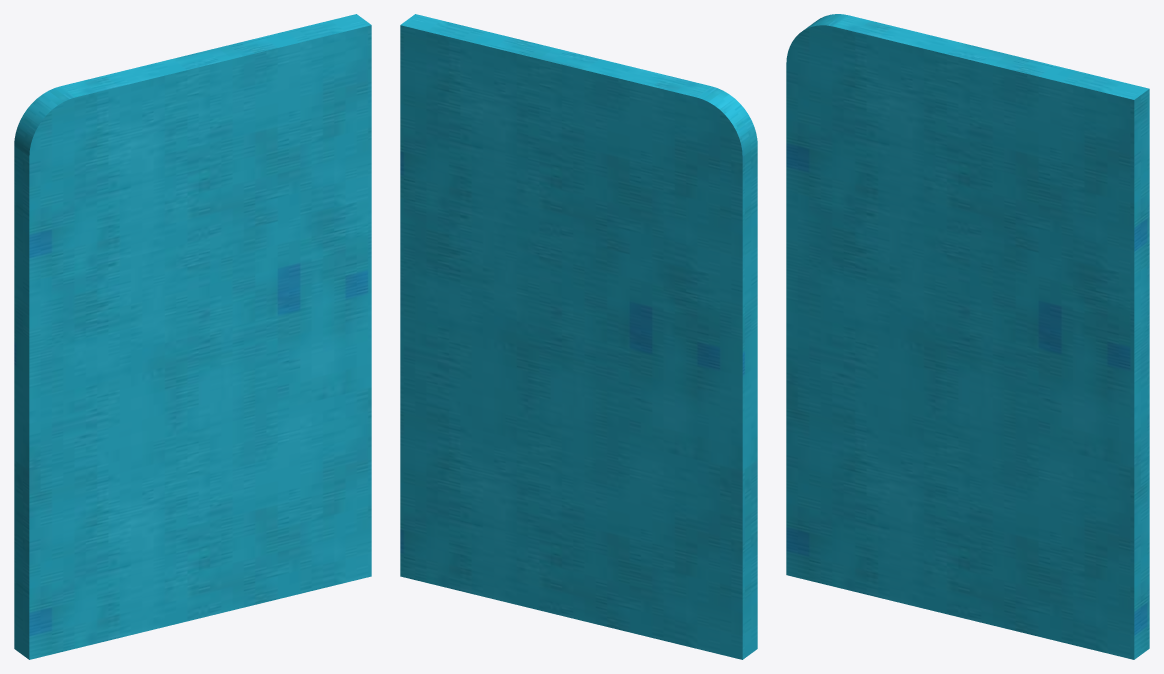
Rendered from Puerta.fbx.
The picture shows the model from 3 angles, left to right: view 1: azimuth 30°, elevation 25°; view 2: azimuth 150°, elevation 25°; view 3: azimuth 330°, elevation 25°; orthographic projection.
Parts seen in each view (by area): view 1: Model; view 2: Model; view 3: Model.
Part boxes in pixels (x1,y1,x2,y2): Model: (14,14,371,659); Model: (400,14,757,659); Model: (786,14,1149,659).
Bounding box in the file's own units: 1.3 × 2 × 0.1.
